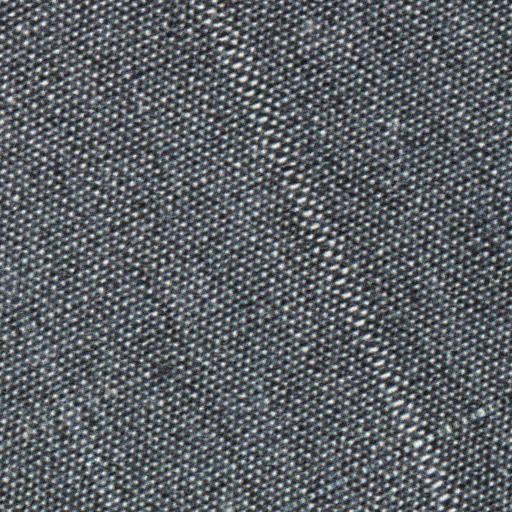slub: (194, 0, 467, 510)
